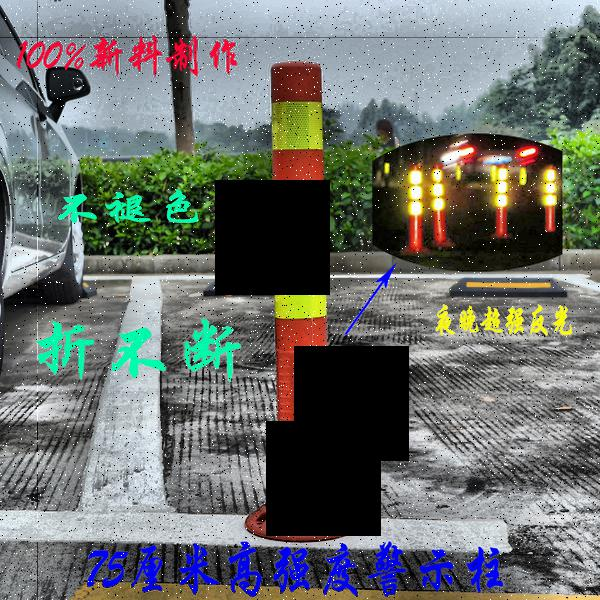bench: (245, 60, 364, 541)
